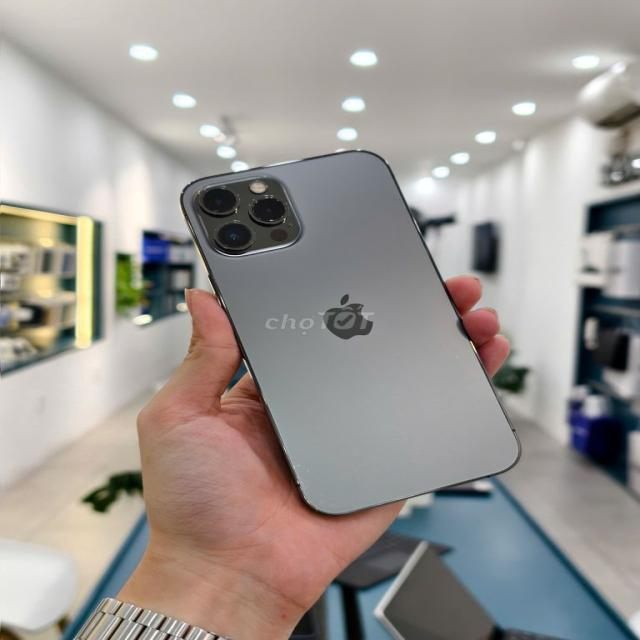gen_12_13: (180, 146, 525, 522)
